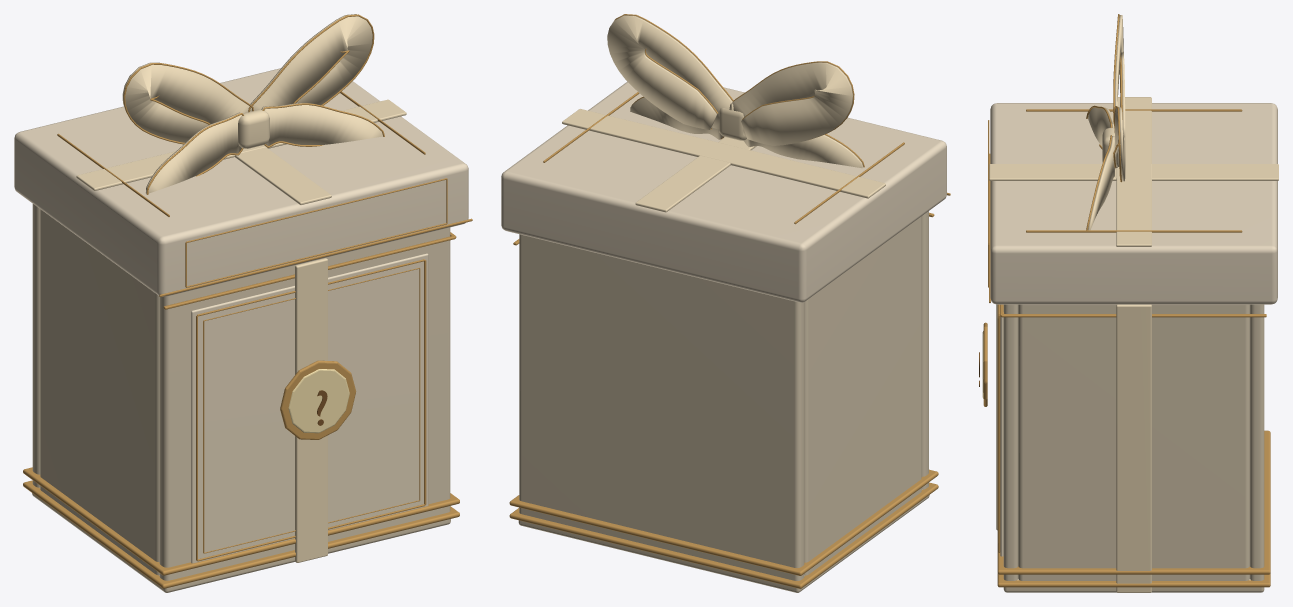
File: style-club-mystery-box-10000.glb
3 renders of one model, left to right at view 1: azimuth 30°, elevation 25°; view 2: azimuth 150°, elevation 25°; view 3: azimuth 270°, elevation 25°, orthographic. The views are drawn at different scales.
Parts seen in each view (by area): view 1: LidShell_Main, BoxInsetPanel_Front, BoxShell_Sides_-1, BoxShell_FrontBack_-1, GiftRibbon_Front, GiftRibbon_BowLoop_-1, GiftRibbon_BowLoop_1, GiftRibbon_Tail_1, Metal_BasePlinth_0.052, GiftRibbon_Tail_-1, Metal_BasePlinth_0.115, MysterySeal_Face (+10 smaller); view 2: BoxShell_FrontBack_1, LidShell_Main, BoxShell_Sides_-1, GiftRibbon_BowLoop_1, GiftRibbon_BowLoop_-1, GiftRibbon_LidCrosswise, Metal_BasePlinth_0.115, Metal_BasePlinth_0.052, GiftRibbon_LidLengthwise, BoxShell_FrontBack_-1, GiftRibbon_Tail_-1, BoxShell_Bottom (+2 smaller); view 3: BoxShell_Sides_1, LidShell_Main, GiftRibbon_Right, GiftRibbon_LidCrosswise, BoxShell_FrontBack_-1, GiftRibbon_LidLengthwise, BoxShell_FrontBack_1, Metal_BasePlinth_0.115, Metal_BasePlinth_0.052, BoxShell_Bottom, BoxInsetPanel_Front, Metal_SeamRight (+10 smaller).
Part boxes in pixels (x1,y1,x2,y2): LidShell_Main: (14,68,468,296); BoxInsetPanel_Front: (191,253,428,563); BoxShell_Sides_-1: (40,209,159,575); BoxShell_FrontBack_-1: (159,227,450,588); GiftRibbon_Front: (295,258,327,562); GiftRibbon_BowLoop_-1: (122,62,250,142); GiftRibbon_BowLoop_1: (250,14,372,111); GiftRibbon_Tail_1: (261,103,382,146); Metal_BasePlinth_0.052: (23,480,459,588); GiftRibbon_Tail_-1: (145,112,241,193); Metal_BasePlinth_0.115: (23,467,459,575); MysterySeal_Face: (288,369,349,433); BoxShell_FrontBack_1: (519,234,804,588); LidShell_Main: (501,81,946,302); BoxShell_Sides_-1: (804,216,921,575); GiftRibbon_BowLoop_1: (607,15,733,129); GiftRibbon_BowLoop_-1: (729,62,853,145); GiftRibbon_LidCrosswise: (562,109,885,198); Metal_BasePlinth_0.115: (509,469,938,575); Metal_BasePlinth_0.052: (509,482,938,588); GiftRibbon_LidLengthwise: (635,137,756,212); BoxShell_FrontBack_-1: (921,211,928,489); GiftRibbon_Tail_-1: (743,134,863,168); BoxShell_Bottom: (518,489,929,592); BoxShell_Sides_1: (1018,304,1249,580); LidShell_Main: (990,103,1277,304); GiftRibbon_Right: (1116,304,1151,592); GiftRibbon_LidCrosswise: (1116,97,1151,246); BoxShell_FrontBack_-1: (1003,304,1018,580); GiftRibbon_LidLengthwise: (989,164,1278,180); BoxShell_FrontBack_1: (1250,304,1264,580); Metal_BasePlinth_0.115: (997,430,1270,574); Metal_BasePlinth_0.052: (997,573,1270,587); BoxShell_Bottom: (1003,579,1264,592); BoxInsetPanel_Front: (1000,317,1003,556); Metal_SeamRight: (1001,314,1266,317).
Size of the model in its own units: 1.57 by 2.29 by 1.35.
